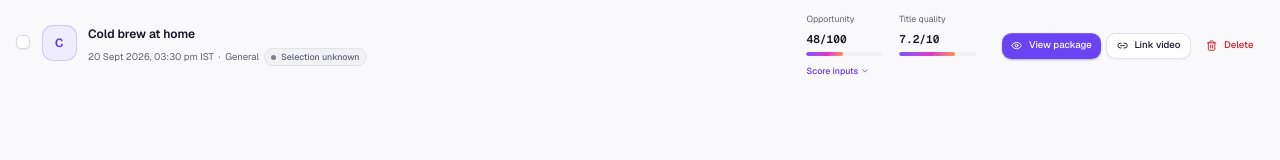
Scenario: History row score inputs › says an older package has no stored breakdown
Click the button with aria-label "Score inputs for Cold brew at home" at (838, 71), box 806,65 -> 869,78
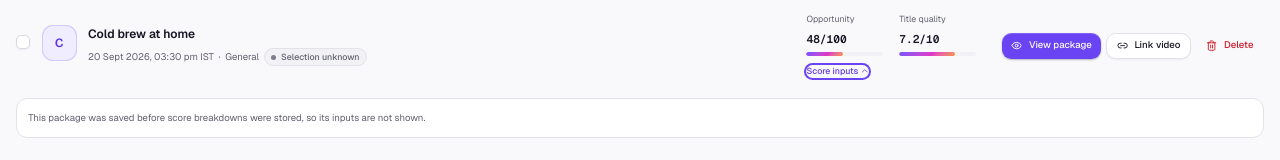
Expected: the text "saved before score breakdowns were stored" is shown, 28,111 -> 425,124
